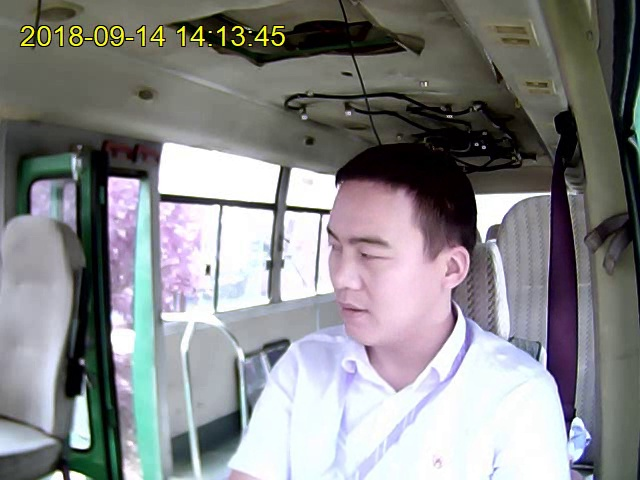closed_mouth: (333, 298, 367, 320)
